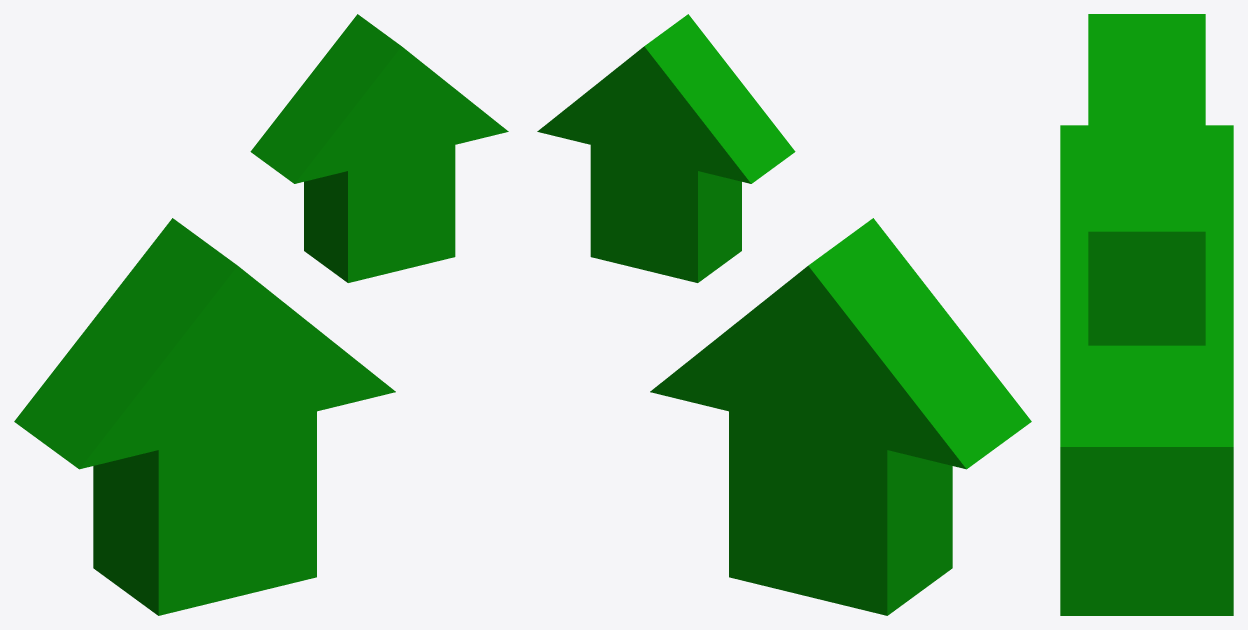
Rendered from power_up_tiro_rapido.glb.
The picture shows the model from 3 angles, left to right: view 1: azimuth 30°, elevation 25°; view 2: azimuth 150°, elevation 25°; view 3: azimuth 270°, elevation 25°; orthographic projection. The views are drawn at different scales.
Visible parts, largest first — view 1: node_id56; view 2: node_id56; view 3: node_id56.
Part boxes in pixels (bbox=[...]): node_id56: bbox=[14, 14, 508, 615]; node_id56: bbox=[537, 14, 1031, 615]; node_id56: bbox=[1060, 14, 1233, 615].
Bounding box in the file's own units: 0.0645 × 0.07 × 0.0165.
1 material, 1 textured.
